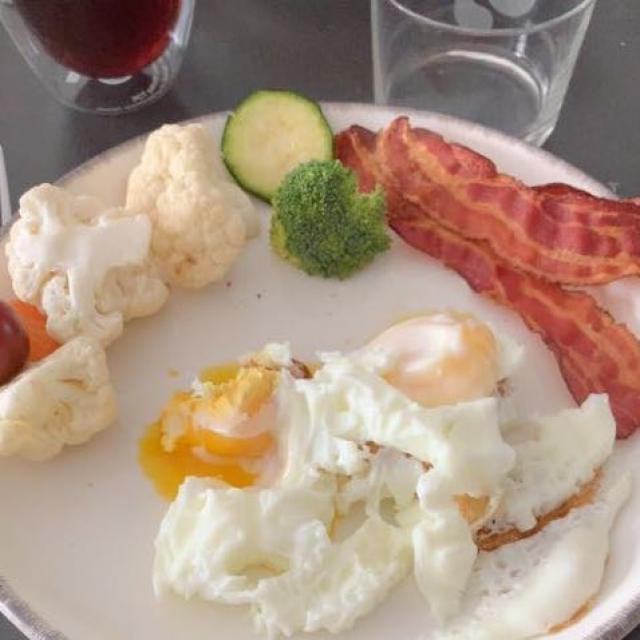bacon: (345, 110, 633, 414)
broccoli: (271, 150, 403, 278)
cauliflower: (8, 118, 255, 461)
egg: (146, 310, 622, 624)
zucchini: (215, 72, 338, 198)
